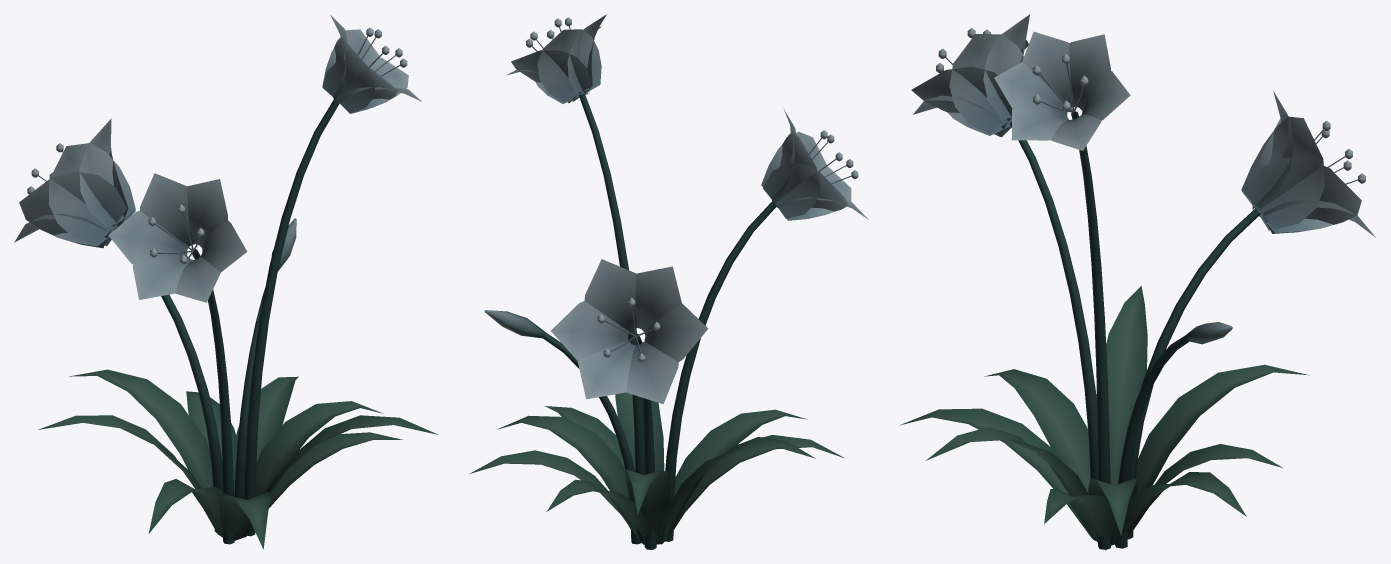
The model's file is flower_lod0.glb.
The picture shows the model from 3 angles, left to right: view 1: azimuth 30°, elevation 25°; view 2: azimuth 150°, elevation 25°; view 3: azimuth 270°, elevation 25°; orthographic projection. The views are drawn at different scales.
Visible parts, largest first — view 1: flower_lod0; view 2: flower_lod0; view 3: flower_lod0.
Part boxes in pixels (left/top/right/bottom): flower_lod0: left=14, top=14, right=438, bottom=549; flower_lod0: left=469, top=14, right=868, bottom=549; flower_lod0: left=899, top=14, right=1375, bottom=549.
Bounding box in the file's own units: 1.23 × 1.71 × 1.33.
